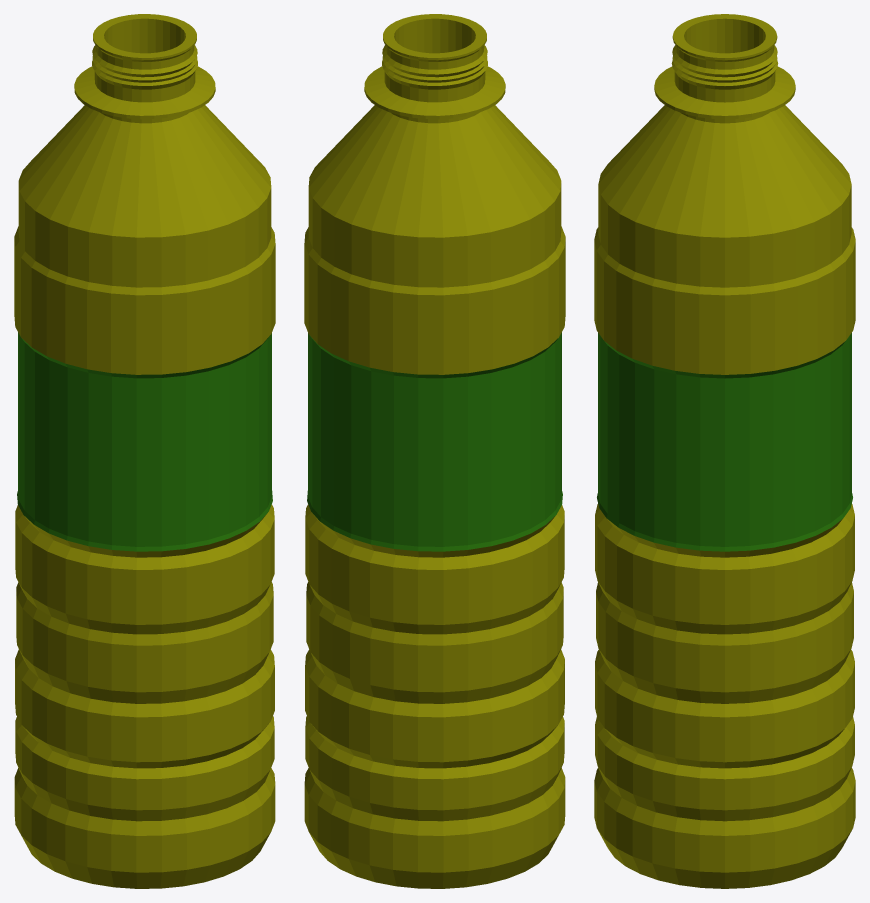
File: vegetableoil.fbx
The picture shows the model from 3 angles, left to right: view 1: azimuth 30°, elevation 25°; view 2: azimuth 150°, elevation 25°; view 3: azimuth 270°, elevation 25°; orthographic projection.
Visible parts, largest first — view 1: Cylinder.001; view 2: Cylinder.001; view 3: Cylinder.001.
Part boxes in pixels (x1,y1,x2,y2): Cylinder.001: (14,14,275,888); Cylinder.001: (304,14,565,888); Cylinder.001: (594,14,855,888).
Size of the model in its own units: 106 by 360 by 106.
